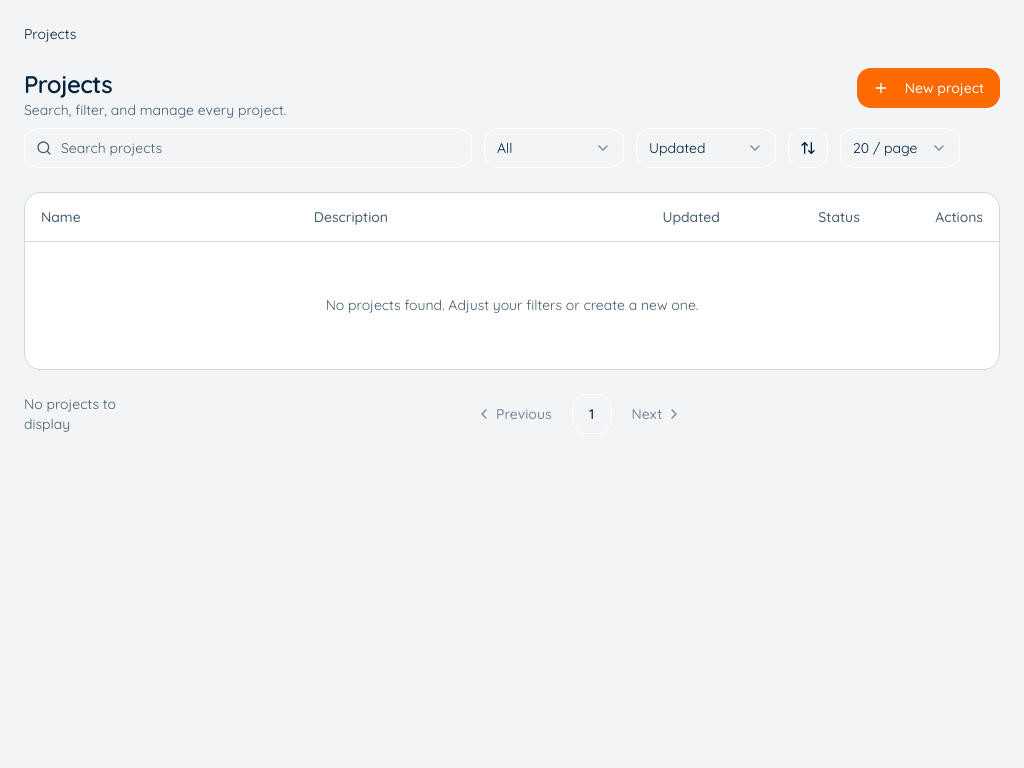
Test case: Projects pages › opens the create dialog and syncs the URL when requested
Click the button "New project" at (928, 88), box [857,68,1000,108]
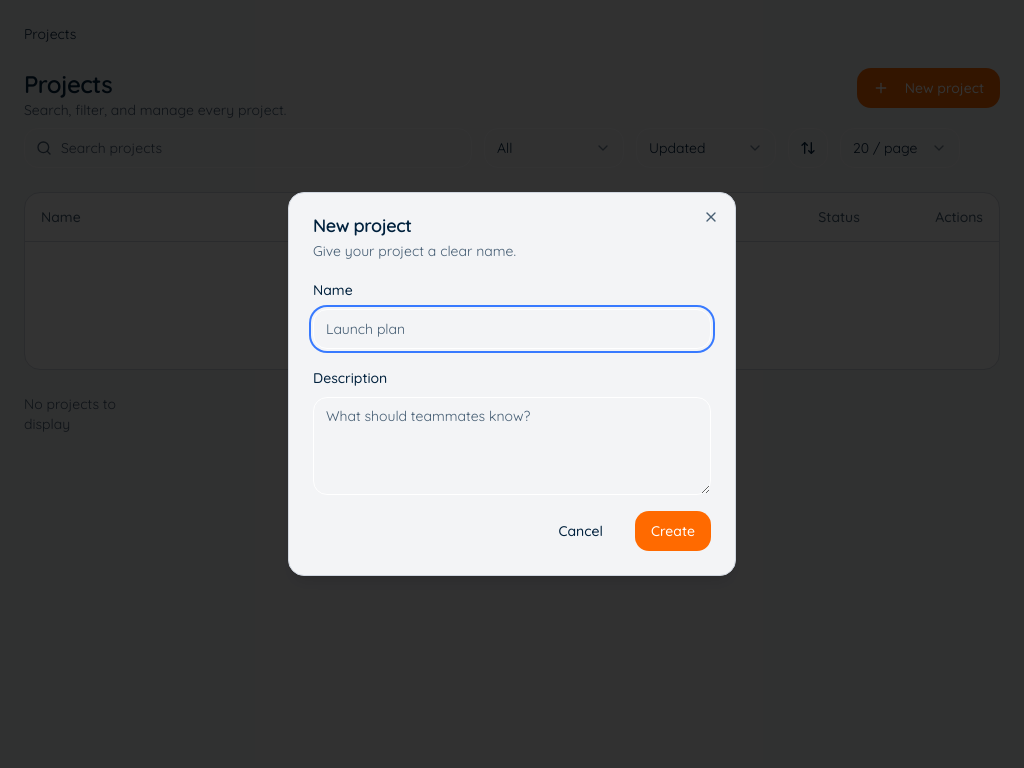
Now the text "Give your project a clear name." is shown, box [313,242,516,260]
